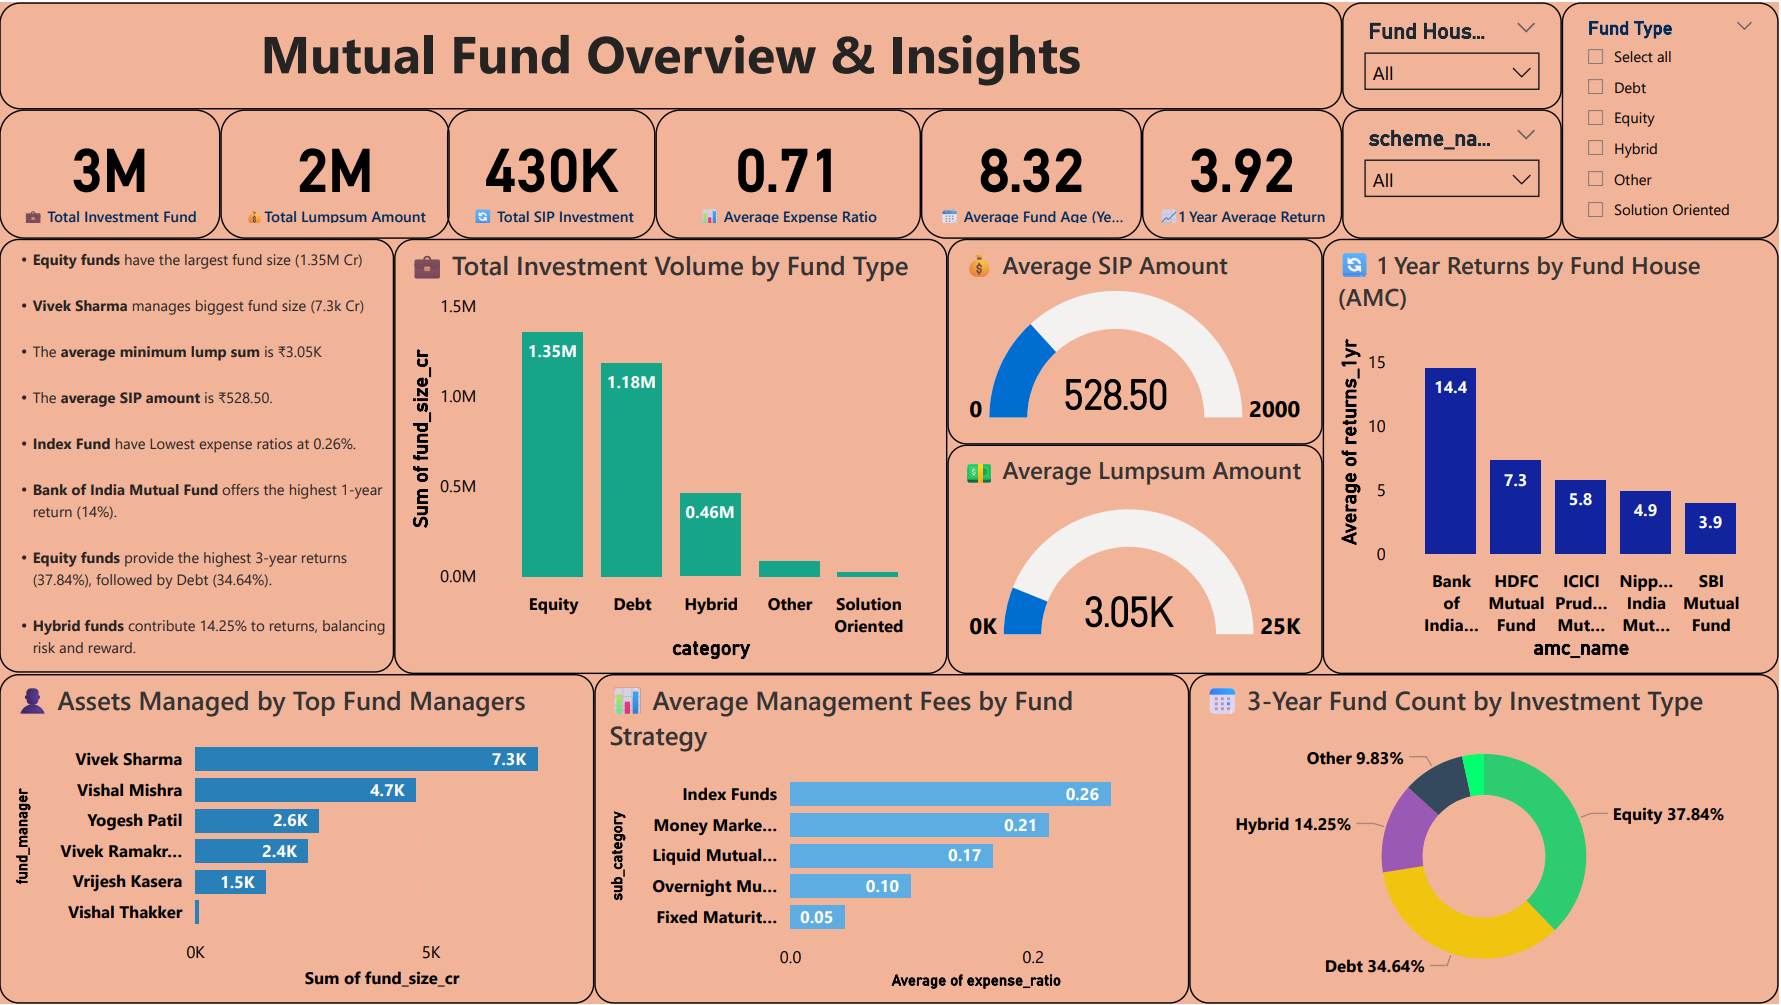

Layout of this report page (visuals, bound fields, positions):
{"tool":"powerbi","page":{"name":"Page 1","canvas":[1280,720],"ordinal":0},"visuals":[{"type":"donutChart","title":"📅 3-Year Fund Count by Investment Type","fields":{"Category":["Mutual Fund.category"],"Y":["Mutual Fund.returns_3yr"]},"box":[856.3,483,424,237.4],"z":0},{"type":"barChart","title":"📊 Average Management Fees by Fund Strategy","fields":{"Category":["Mutual Fund.sub_category"],"Y":["Mutual Fund.expense_ratio"]},"box":[428.1,483,428.1,237.4],"z":1000},{"type":"barChart","title":"👤 Assets Managed by Top Fund Managers","fields":{"Category":["Mutual Fund.fund_manager"],"Y":["Mutual Fund.fund_size_cr"]},"box":[0,483,428.1,237.4],"z":2000},{"type":"lineStackedColumnComboChart","title":"💼 Total Investment Volume by Fund Type","fields":{"Category":["Mutual Fund.category"],"Y":["Mutual Fund.fund_size_cr"]},"box":[284,170.2,397.9,312.9],"z":3000},{"type":"gauge","title":"💵 Average Lumpsum Amount","fields":{"Y":["Mutual Fund.min_lumpsum"],"MinValue":["Sum(Mutual Fund.min_lumpsum)1"],"MaxValue":["Sum(Mutual Fund.min_lumpsum)2"]},"box":[682,318.4,270.3,164.7],"z":4000},{"type":"gauge","title":"💰 Average SIP Amount","fields":{"Y":["Mutual Fund.min_sip"],"MinValue":["Sum(Mutual Fund.min_sip)1"],"MaxValue":["Sum(Mutual Fund.min_sip)2"]},"box":[682,170.2,270.3,148.2],"z":5000},{"type":"columnChart","title":"🔄 1 Year Returns by Fund House (AMC)","fields":{"Category":["Mutual Fund.amc_name"],"Y":["Mutual Fund.returns_1yr"]},"box":[952.3,170.2,328,312.9],"z":6000},{"type":"slicer","fields":{"Values":["Mutual Fund.category"]},"box":[1123.8,0,156.4,170.2],"z":7000},{"type":"slicer","fields":{"Values":["Mutual Fund.amc_name"]},"box":[966,0,157.8,76.8],"z":8000},{"type":"slicer","fields":{"Values":["Mutual Fund.scheme_name"]},"box":[966,76.8,157.8,93.3],"z":9000},{"type":"card","fields":{"Values":["Mutual Fund.fund_size_cr"]},"box":[0,76.8,159.2,93.3],"z":10000},{"type":"card","fields":{"Values":["Mutual Fund.min_lumpsum"]},"box":[159.2,76.8,164.7,93.3],"z":11000},{"type":"card","fields":{"Values":["Mutual Fund.min_sip"]},"box":[322.5,76.8,149.6,93.3],"z":12000},{"type":"card","fields":{"Values":["Mutual Fund.expense_ratio"]},"box":[472,76.8,190.7,93.3],"z":13000},{"type":"card","fields":{"Values":["Mutual Fund.fund_age_yr"]},"box":[662.8,76.8,159.2,93.3],"z":14000},{"type":"card","fields":{"Values":["Mutual Fund.returns_1yr"]},"box":[822,76.8,144.1,93.3],"z":15000},{"type":"textbox","box":[0,0,966,76.8],"z":16000},{"type":"textbox","box":[0,170.2,284,312],"z":17000}]}

Visuals, with their boxes in screenshot pixels (x1, y1, x2, y2), scaled from the page's 1280x720 canvas onto the 1781x1005 screenshot:
"📅 3-Year Fund Count by Investment Type" donutChart: 1191, 674, 1780, 1004
"📊 Average Management Fees by Fund Strategy" barChart: 596, 674, 1191, 1004
"👤 Assets Managed by Top Fund Managers" barChart: 0, 674, 596, 1004
"💼 Total Investment Volume by Fund Type" lineStackedColumnComboChart: 395, 238, 949, 674
"💵 Average Lumpsum Amount" gauge: 949, 444, 1325, 674
"💰 Average SIP Amount" gauge: 949, 238, 1325, 444
"🔄 1 Year Returns by Fund House (AMC)" columnChart: 1325, 238, 1780, 674
slicer - Mutual Fund.category: 1564, 0, 1780, 238
slicer - Mutual Fund.amc_name: 1344, 0, 1564, 107
slicer - Mutual Fund.scheme_name: 1344, 107, 1564, 237
card - Mutual Fund.fund_size_cr: 0, 107, 222, 237
card - Mutual Fund.min_lumpsum: 222, 107, 451, 237
card - Mutual Fund.min_sip: 449, 107, 657, 237
card - Mutual Fund.expense_ratio: 657, 107, 922, 237
card - Mutual Fund.fund_age_yr: 922, 107, 1144, 237
card - Mutual Fund.returns_1yr: 1144, 107, 1344, 237
textbox: 0, 0, 1344, 107
textbox: 0, 238, 395, 673
